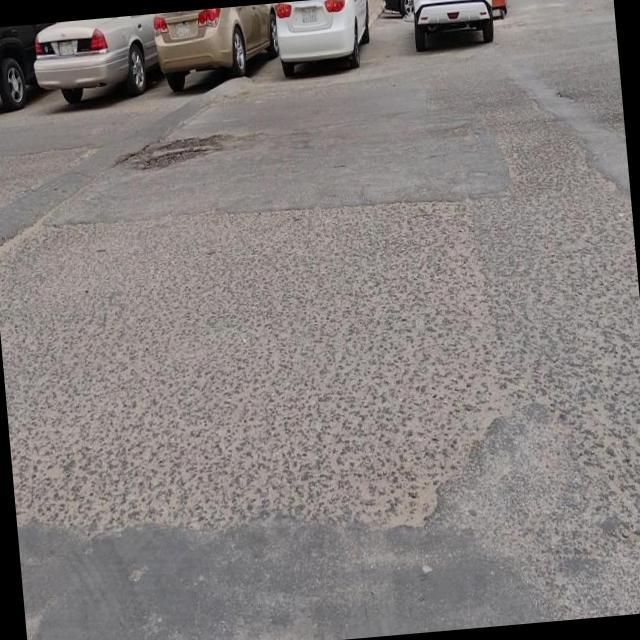Pothole: (127, 133, 225, 173)
